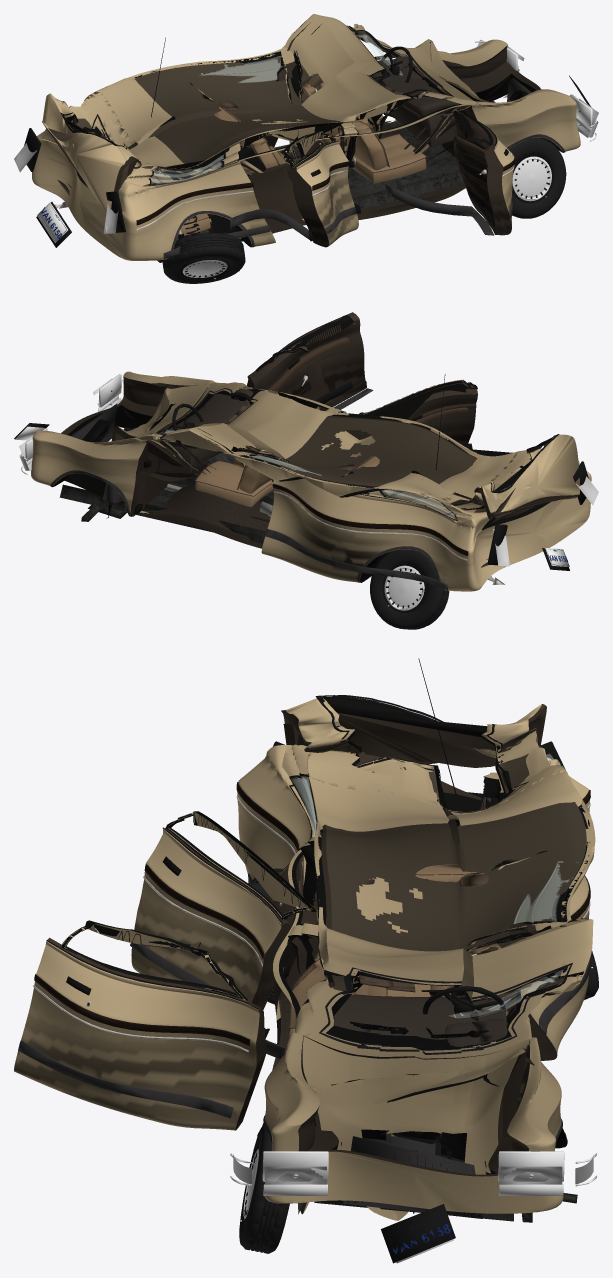
The model's file is minivan86_roll_d3_lod1.glb.
The picture shows the model from 3 angles, top to bottom: view 1: azimuth 30°, elevation 25°; view 2: azimuth 150°, elevation 25°; view 3: azimuth 270°, elevation 25°; orthographic projection. The views are drawn at different scales.
Visible parts, largest first — view 1: Body, Interior, Liftgate, Door_SR, Door_FR, Underbody, Wheel_FR_mesh, Wheel_RR_mesh, Ends, Trim, Glass, Trim_FR (+4 smaller); view 2: Body, Door_FR, Interior, Liftgate, Wheel_RL_mesh, Trim, Door_SR, Ends, Underbody, Hood, Trim_FR, Glass (+2 smaller); view 3: Body, Door_FR, Hood, Door_SR, Liftgate, Interior, Ends, Trim_FR, Glass, Engine, Trim, Trim_SR (+3 smaller).
Boxes of the visible parts, x1,y1,x2,y2 form: Body: [32, 14, 580, 260]; Interior: [150, 56, 459, 236]; Liftgate: [42, 90, 161, 212]; Door_SR: [281, 131, 358, 247]; Door_FR: [441, 109, 514, 235]; Underbody: [54, 121, 518, 262]; Wheel_FR_mesh: [509, 137, 566, 218]; Wheel_RR_mesh: [162, 233, 245, 283]; Ends: [14, 39, 598, 247]; Trim: [135, 37, 565, 259]; Glass: [149, 26, 451, 183]; Trim_FR: [385, 110, 515, 235]; Body: [31, 371, 591, 591]; Door_FR: [247, 312, 366, 410]; Interior: [150, 393, 485, 518]; Liftgate: [420, 434, 579, 519]; Wheel_RL_mesh: [370, 549, 449, 629]; Trim: [50, 374, 468, 590]; Door_SR: [361, 379, 477, 447]; Ends: [14, 374, 598, 570]; Underbody: [59, 453, 504, 584]; Hood: [111, 384, 208, 441]; Trim_FR: [248, 312, 373, 409]; Glass: [157, 388, 455, 518]; Body: [237, 744, 595, 1213]; Door_FR: [14, 920, 265, 1130]; Hood: [298, 1036, 534, 1220]; Door_SR: [131, 811, 316, 1009]; Liftgate: [281, 696, 566, 816]; Interior: [289, 864, 531, 1047]; Ends: [230, 741, 596, 1263]; Trim_FR: [18, 924, 285, 1118]; Glass: [292, 773, 588, 1054]; Engine: [343, 1101, 520, 1218]; Trim: [236, 658, 590, 1213]; Trim_SR: [130, 812, 309, 985].
Bounding box in the file's own units: 4.79 × 1.85 × 2.83.
Materials: 29 (5 with a texture image).
